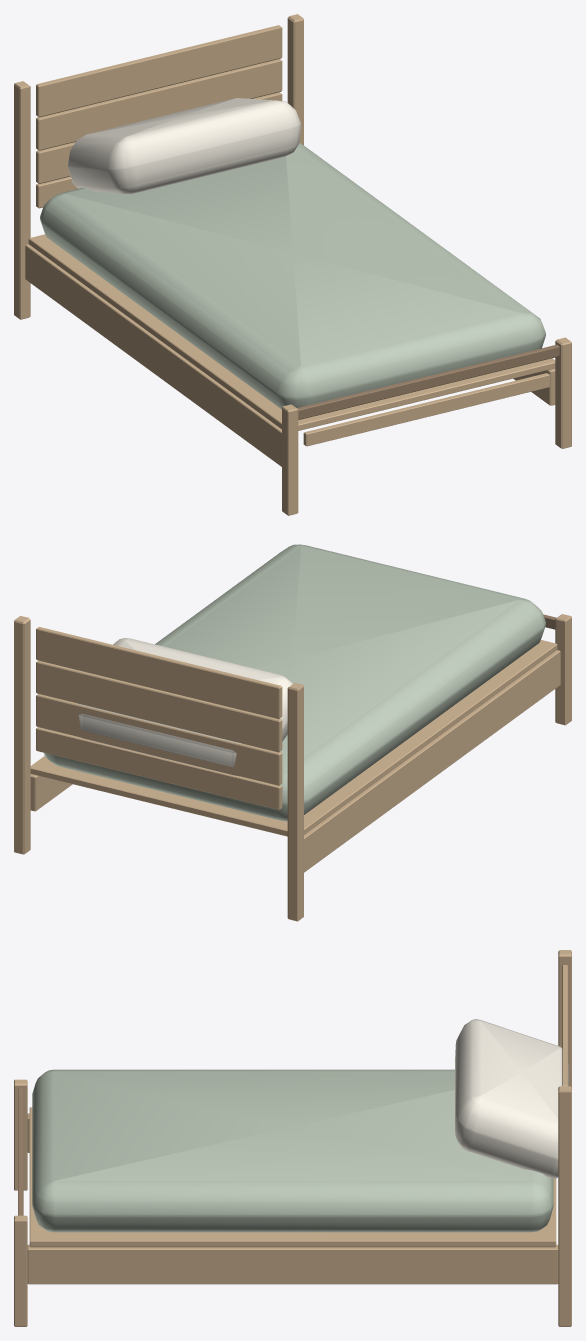
Rendered from bed-120.glb.
The picture shows the model from 3 angles, top to bottom: view 1: azimuth 30°, elevation 25°; view 2: azimuth 150°, elevation 25°; view 3: azimuth 270°, elevation 25°; orthographic projection.
Visible parts, largest first — view 1: single-bed-timber_2, single-bed-timber_0, single-bed-timber_3, single-bed-timber_1; view 2: single-bed-timber_0, single-bed-timber_2, single-bed-timber_3; view 3: single-bed-timber_2, single-bed-timber_0, single-bed-timber_3, single-bed-timber_1.
Boxes of the visible parts, bbox=[...] form: single-bed-timber_2: bbox=[40, 143, 545, 409]; single-bed-timber_0: bbox=[14, 14, 571, 515]; single-bed-timber_3: bbox=[68, 98, 300, 194]; single-bed-timber_1: bbox=[297, 344, 559, 419]; single-bed-timber_0: bbox=[14, 614, 571, 921]; single-bed-timber_2: bbox=[44, 544, 545, 821]; single-bed-timber_3: bbox=[77, 638, 293, 775]; single-bed-timber_2: bbox=[32, 1069, 553, 1232]; single-bed-timber_0: bbox=[14, 950, 571, 1326]; single-bed-timber_3: bbox=[455, 1019, 568, 1178]; single-bed-timber_1: bbox=[18, 1088, 23, 1215].
Size of the model in its own units: 1.28 by 1 by 2.14.
